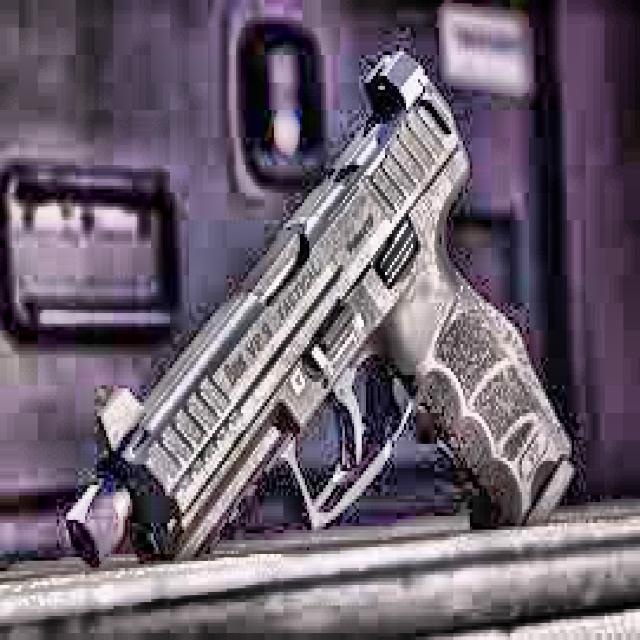HKVP9: (64, 42, 574, 564)
